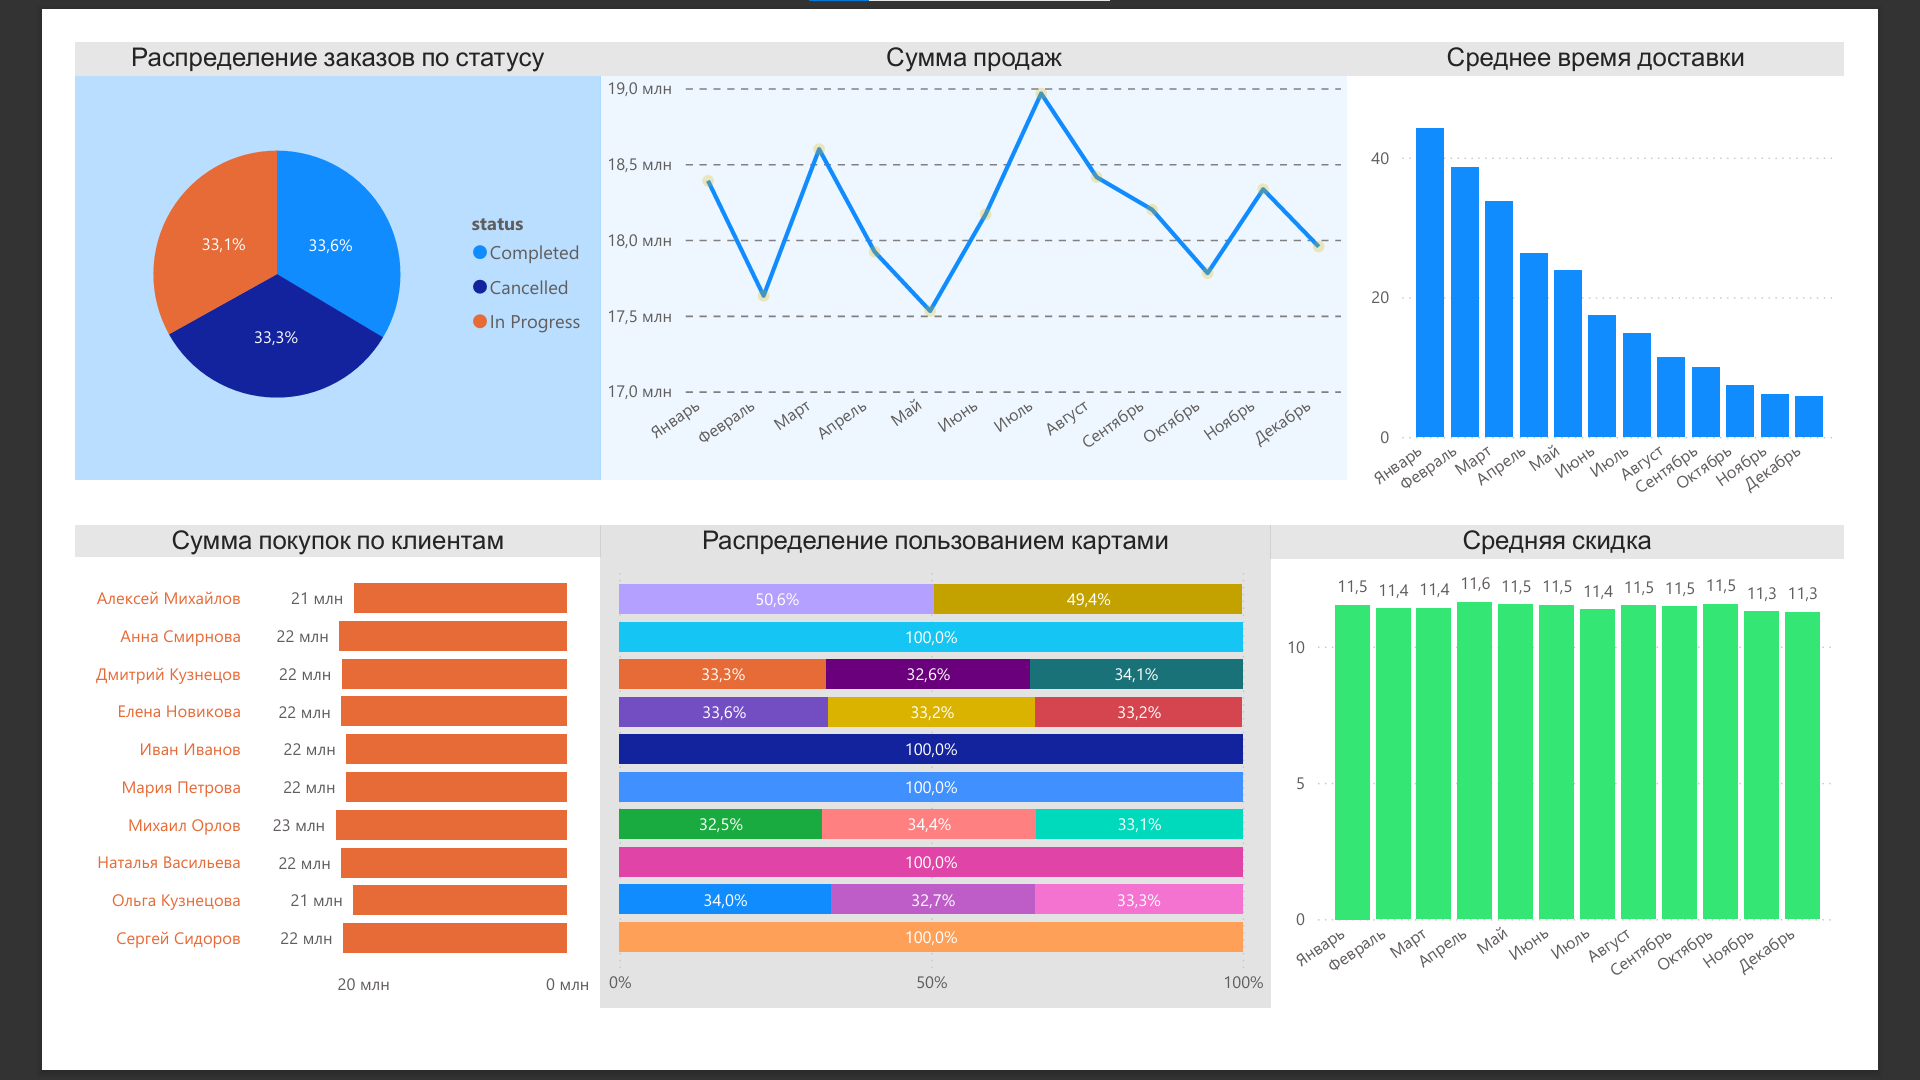

Layout of this report page (visuals, bound fields, positions):
{"tool":"powerbi","page":{"name":"Страница 1","canvas":[1280,720],"ordinal":0},"visuals":[{"type":"pieChart","title":"Распределение заказов по статусу","fields":{"Category":["my_schema orders.status"],"Y":["CountNonNull(my_schema orders.status)"]},"box":[0,0,380,317],"z":0},{"type":"lineChart","title":"Сумма продаж","fields":{"Category":["my_schema orders.order_date.Изменение.Иерархия дат.Месяц"],"Y":["Sum(my_schema orders.total_amount)"]},"box":[380,0,541,317],"z":1000},{"type":"clusteredBarChart","title":"Сумма покупок по клиентам","fields":{"Category":["my_schema customers.name"],"Y":["Sum(my_schema orders.total_amount)"]},"box":[0,350,380,350],"z":2000},{"type":"clusteredColumnChart","title":"Среднее время доставки","fields":{"Category":["orders.order_date.Изменение.Иерархия дат.Месяц"],"Y":["customers.СредняяРазница"]},"box":[921,0,359,350],"z":3000},{"type":"clusteredColumnChart","title":"Средняя скидка","fields":{"Category":["orders.order_date.Изменение.Иерархия дат.Месяц"],"Y":["customers.Средняя скидка"]},"box":[865,349.7,414.7,349.7],"z":4000},{"type":"hundredPercentStackedBarChart","title":"Распределение пользованием картами","fields":{"Category":["customers.name"],"Y":["Sum(orders.total_amount)"],"Series":["orders.gift_card_id"]},"box":[380.4,349.7,484.7,349.7],"z":5000}]}

Visuals, with their boxes in screenshot pixels (x1, y1, x2, y2), scaled from the page's 1280x720 canvas onto the 1920x1080 screenshot:
"Распределение заказов по статусу" pieChart: bbox(0, 0, 570, 476)
"Сумма продаж" lineChart: bbox(570, 0, 1382, 476)
"Сумма покупок по клиентам" clusteredBarChart: bbox(0, 525, 570, 1050)
"Среднее время доставки" clusteredColumnChart: bbox(1382, 0, 1919, 525)
"Средняя скидка" clusteredColumnChart: bbox(1298, 525, 1919, 1049)
"Распределение пользованием картами" hundredPercentStackedBarChart: bbox(571, 525, 1298, 1049)
